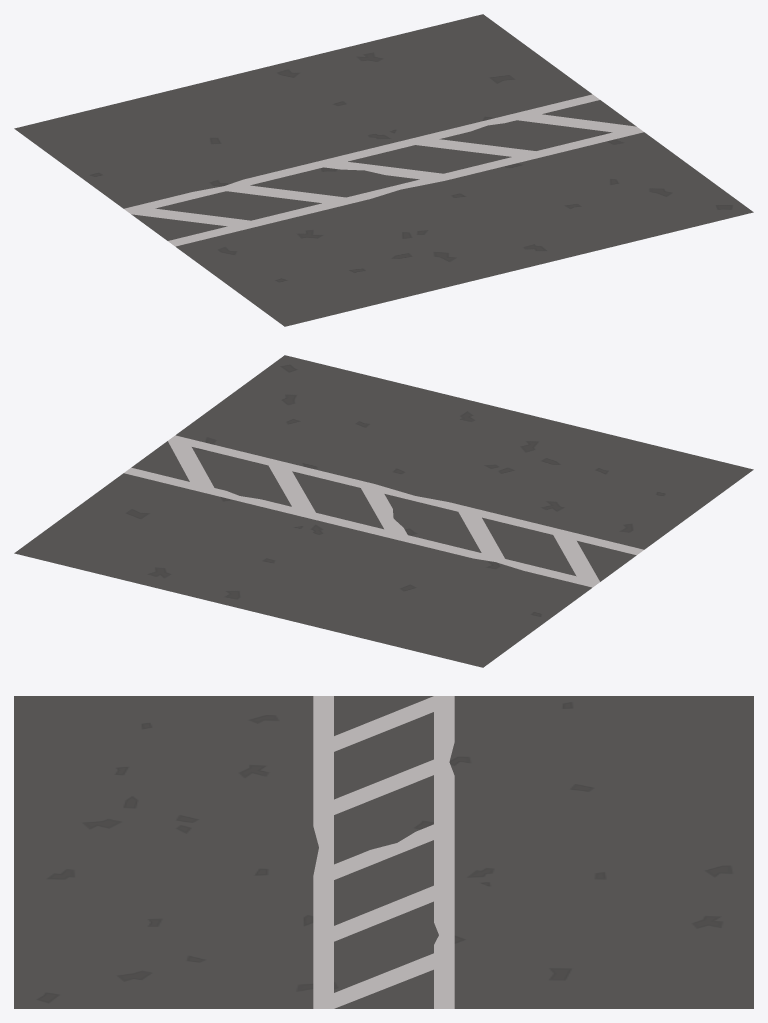
The model's file is SM_Env_Ground_Lines_Small_02.fbx.
The picture shows the model from 3 angles, top to bottom: view 1: azimuth 30°, elevation 25°; view 2: azimuth 150°, elevation 25°; view 3: azimuth 270°, elevation 25°; orthographic projection. The views are drawn at different scales.
Parts seen in each view (by area): view 1: SM_Env_Ground_Lines_Small_02; view 2: SM_Env_Ground_Lines_Small_02; view 3: SM_Env_Ground_Lines_Small_02.
Part boxes in pixels (x1=…): SM_Env_Ground_Lines_Small_02: x1=14, y1=14, x2=753, y2=326; SM_Env_Ground_Lines_Small_02: x1=14, y1=355, x2=753, y2=667; SM_Env_Ground_Lines_Small_02: x1=14, y1=696, x2=753, y2=1008.
Bounding box in the file's own units: 1000 × 0 × 1000.
